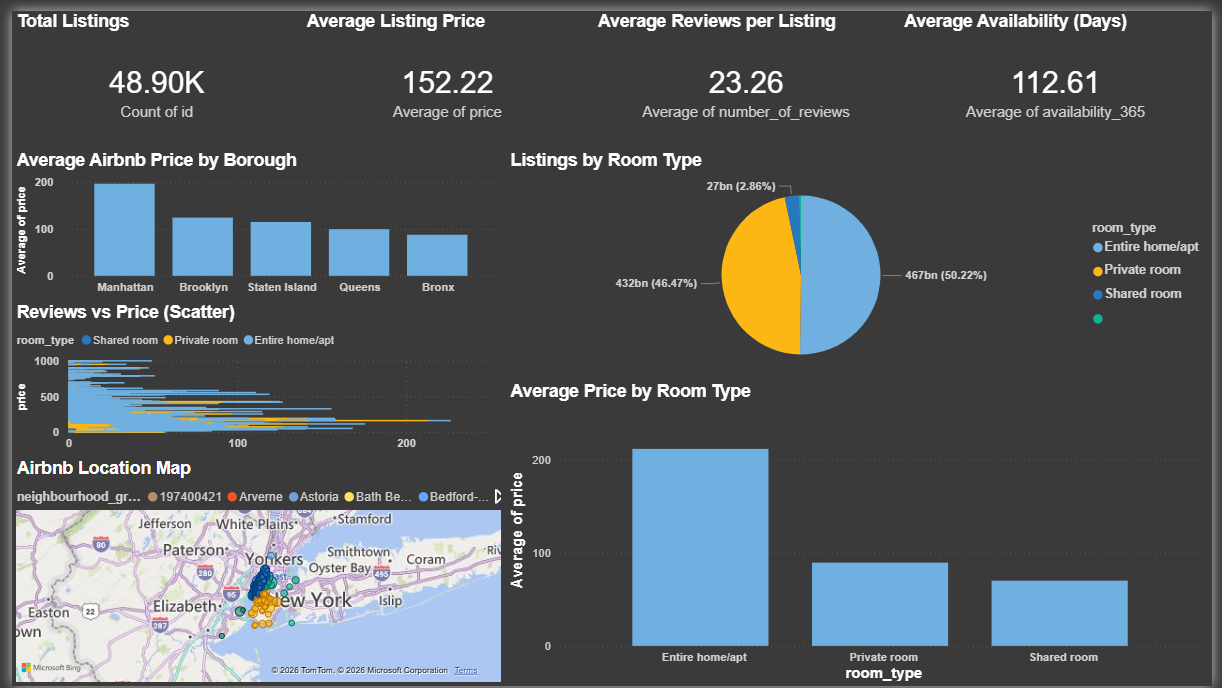

Layout of this report page (visuals, bound fields, positions):
{"tool":"powerbi","page":{"name":"Page 1","canvas":[1280,720],"ordinal":0},"visuals":[{"type":"clusteredColumnChart","title":"Average Airbnb Price by Borough","fields":{"Category":["AB_NYC_2019.neighbourhood_group"],"Y":["Avg(AB_NYC_2019.price)"]},"box":[0,148,700,162.7],"z":0},{"type":"pieChart","title":"Listings by Room Type","fields":{"Category":["AB_NYC_2019.room_type"],"Y":["Sum(AB_NYC_2019.id)"]},"box":[0,490.7,700,229.3],"z":1000},{"type":"clusteredColumnChart","title":"Average Price by Room Type","fields":{"Category":["AB_NYC_2019.room_type"],"Y":["Avg(AB_NYC_2019.price)"]},"box":[700,420,580,300],"z":2000},{"type":"map","title":"Airbnb Location Map","fields":{"Series":["AB_NYC_2019.neighbourhood_group"],"Size":["Sum(AB_NYC_2019.price)"],"X":["AB_NYC_2019.longitude"],"Y":["AB_NYC_2019.latitude"]},"box":[700,148,580,253.3],"z":3000},{"type":"barChart","title":"Reviews vs Price (Scatter)","fields":{"Category":["AB_NYC_2019.price"],"Series":["AB_NYC_2019.room_type"],"Y":["Avg(AB_NYC_2019.number_of_reviews)"]},"box":[0,310.7,700,180],"z":4000},{"type":"actionButton","box":[0,0,100,40],"z":5000},{"type":"card","title":"Total Listings","fields":{"Values":["CountNonNull(AB_NYC_2019.id)"]},"box":[0,0,309.3,148],"z":5001,"group":"g1"},{"type":"card","title":"Average Listing Price","fields":{"Values":["Avg(AB_NYC_2019.price)"]},"box":[309.3,0,310.7,148],"z":5002,"group":"g1"},{"type":"card","title":"Average Reviews per Listing","fields":{"Values":["Avg(AB_NYC_2019.number_of_reviews)"]},"box":[620,0,326.7,148],"z":5003,"group":"g1"},{"type":"card","title":"Average Availability (Days)","fields":{"Values":["Avg(AB_NYC_2019.availability_365)"]},"box":[946.7,0,333.3,148],"z":5004,"group":"g1"},{"type":"group","id":"g1","title":"Group 1","box":[0,0,1280,148],"z":5005}]}

Visuals, with their boxes in screenshot pixels (x1, y1, x2, y2), scaled from the page's 1280x720 canvas onto the 1222x688 screenshot:
"Average Airbnb Price by Borough" clusteredColumnChart: l=0, t=141, r=668, b=297
"Listings by Room Type" pieChart: l=0, t=469, r=668, b=687
"Average Price by Room Type" clusteredColumnChart: l=668, t=401, r=1221, b=687
"Airbnb Location Map" map: l=668, t=141, r=1221, b=383
"Reviews vs Price (Scatter)" barChart: l=0, t=297, r=668, b=469
actionButton: l=0, t=0, r=95, b=38
"Total Listings" card: l=0, t=0, r=295, b=141
"Average Listing Price" card: l=295, t=0, r=592, b=141
"Average Reviews per Listing" card: l=592, t=0, r=904, b=141
"Average Availability (Days)" card: l=904, t=0, r=1221, b=141
"Group 1" group: l=0, t=0, r=1221, b=141
